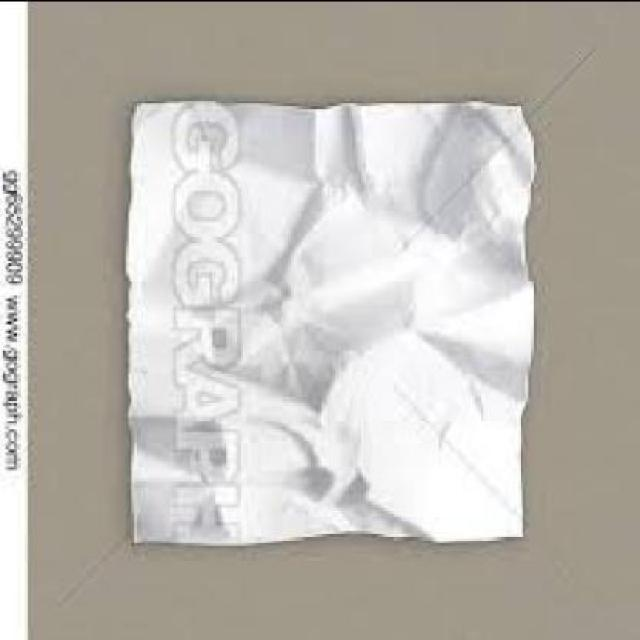PAPER: (132, 96, 539, 544)
